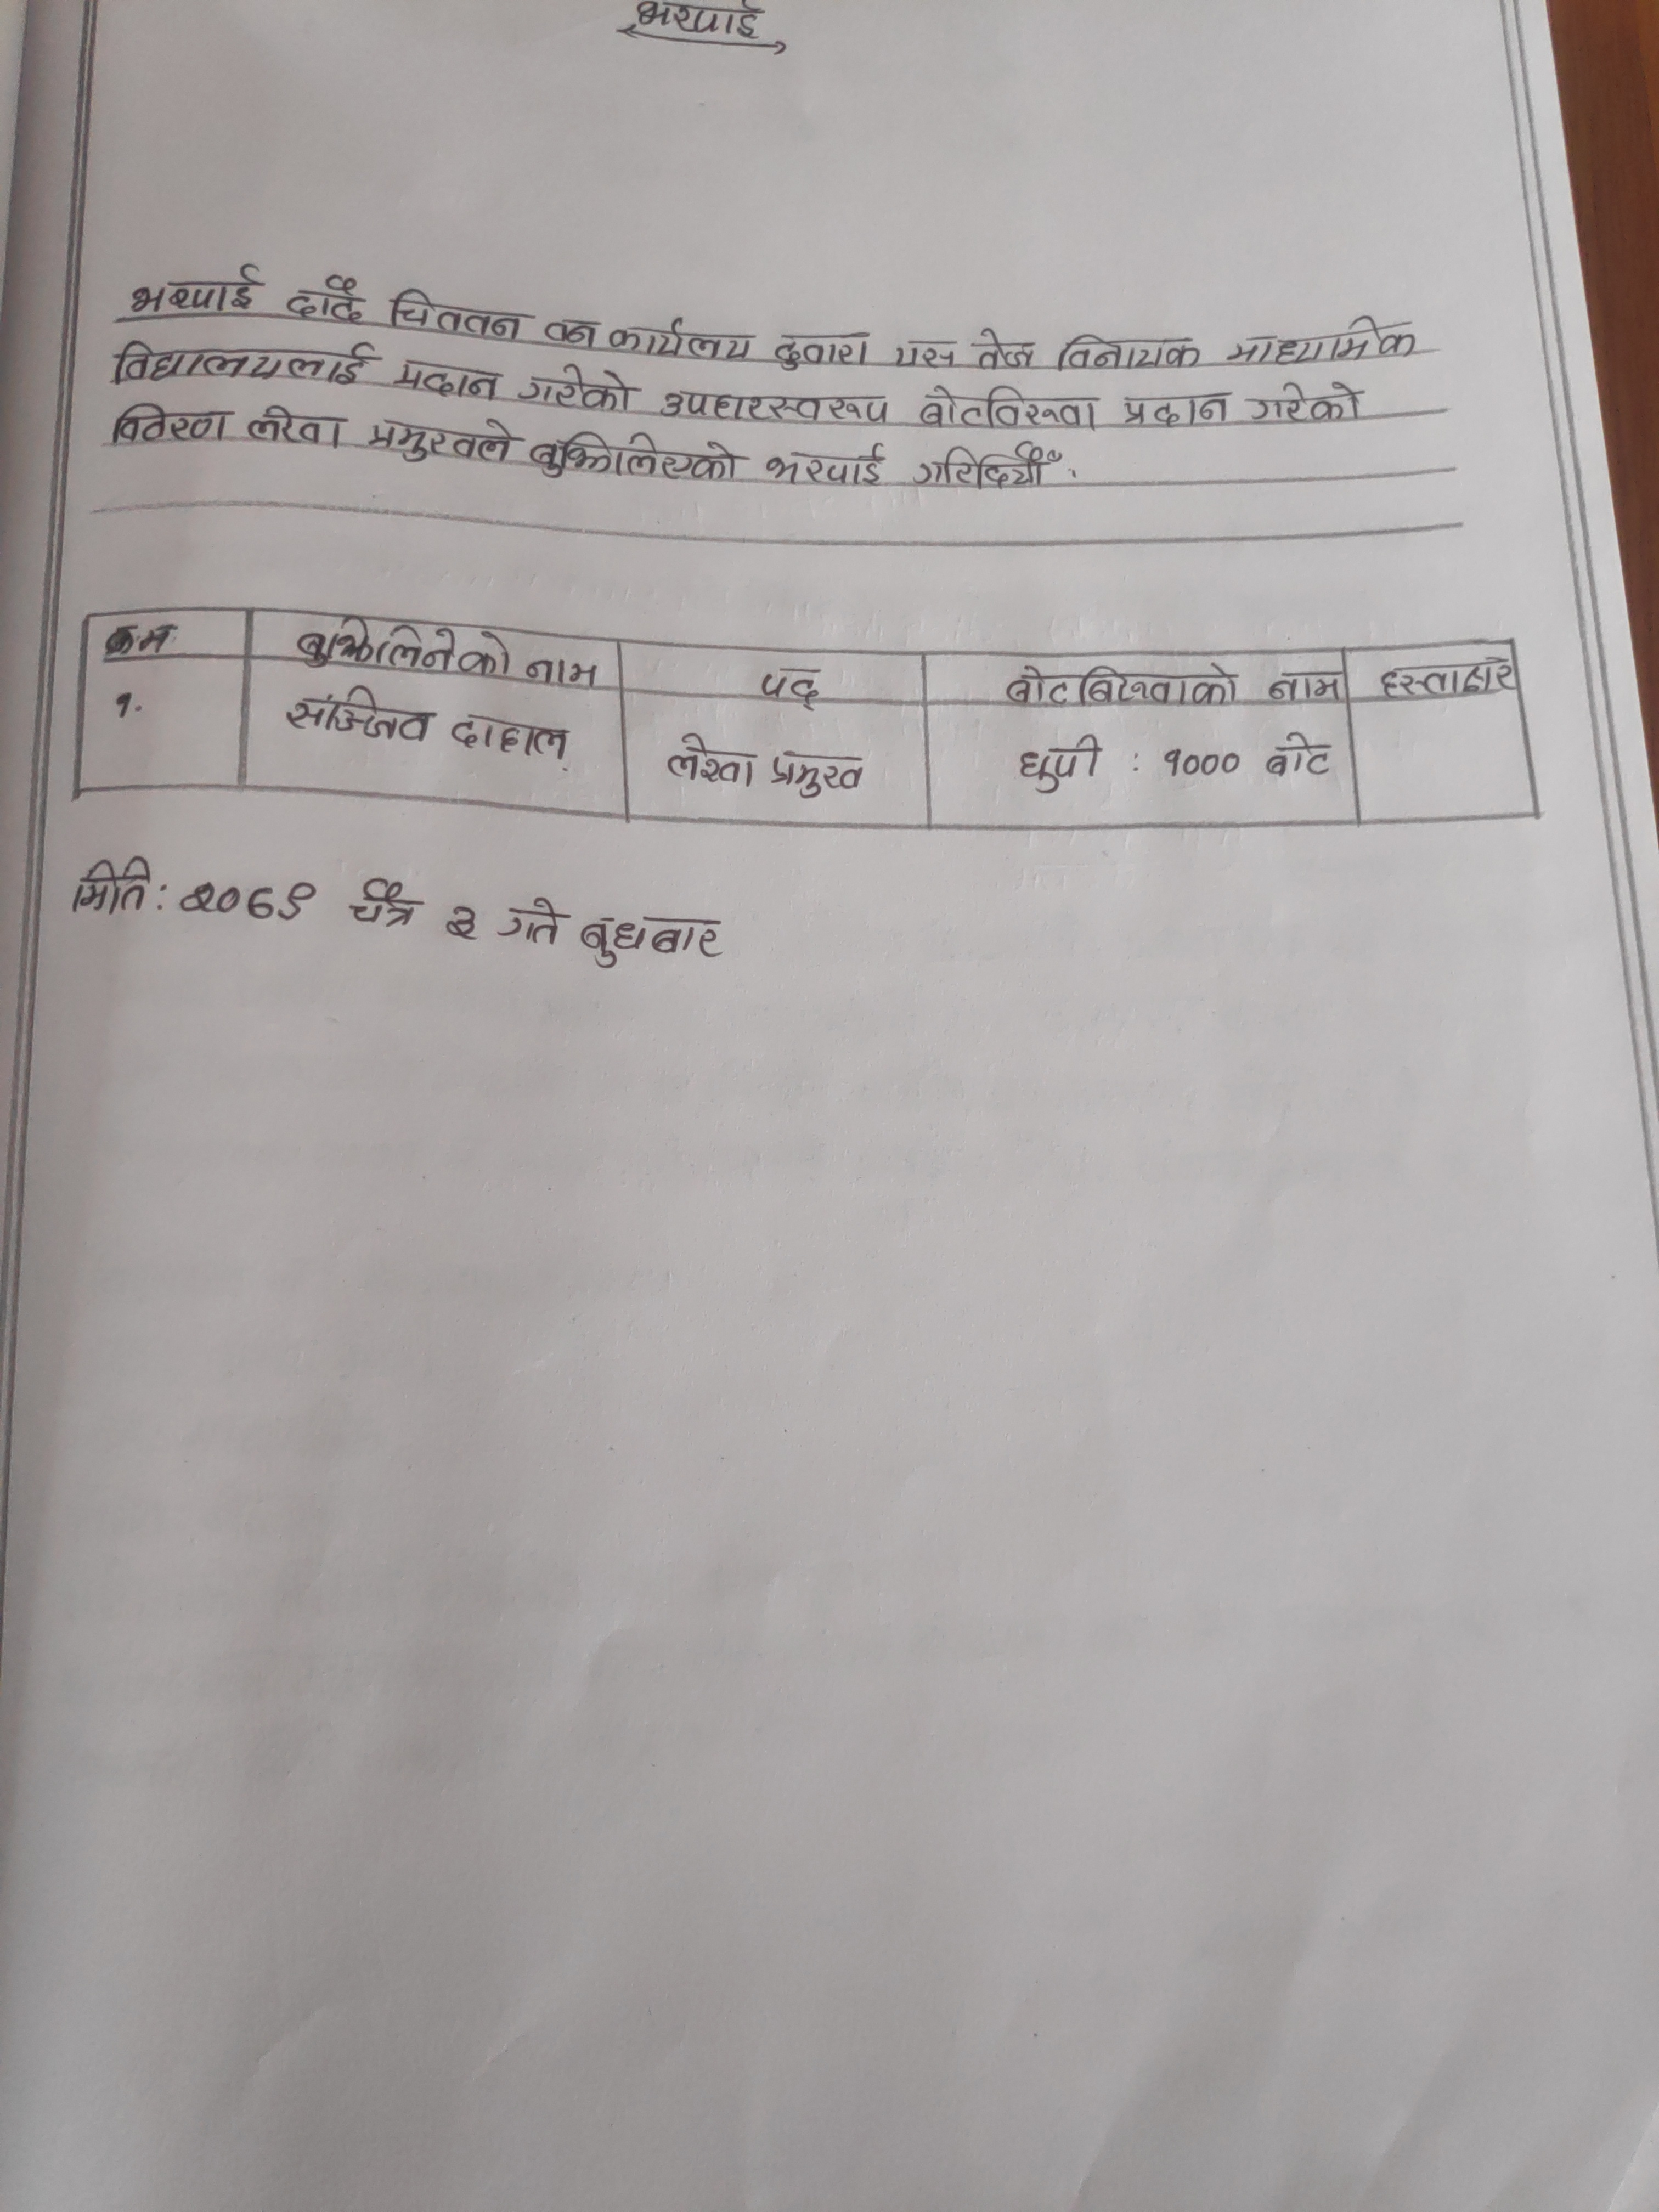text: (112, 333, 375, 392), (293, 615, 511, 681), (528, 425, 744, 489), (1004, 658, 1241, 711), (915, 380, 1105, 435), (281, 685, 437, 751), (653, 387, 894, 428), (1223, 314, 1420, 362), (368, 411, 523, 472), (579, 911, 725, 972), (603, 314, 756, 369), (387, 286, 530, 341), (911, 441, 1065, 491), (448, 711, 575, 768), (1378, 655, 1527, 704), (122, 261, 263, 312), (516, 361, 634, 416), (765, 439, 887, 491), (1053, 329, 1204, 371), (179, 880, 321, 923), (1248, 374, 1368, 425), (1014, 730, 1105, 796), (110, 395, 232, 444), (390, 354, 504, 406), (763, 745, 866, 803), (662, 730, 755, 791), (71, 853, 155, 920), (627, 3, 770, 40), (247, 401, 349, 451), (1117, 390, 1236, 432), (345, 876, 427, 932), (770, 331, 873, 373), (284, 272, 369, 320), (521, 650, 606, 695), (495, 895, 563, 951), (965, 326, 1042, 374), (1263, 726, 1331, 779), (1161, 744, 1243, 786), (1262, 667, 1354, 704), (756, 664, 830, 709), (892, 331, 964, 373), (538, 315, 608, 350), (441, 899, 483, 949)
